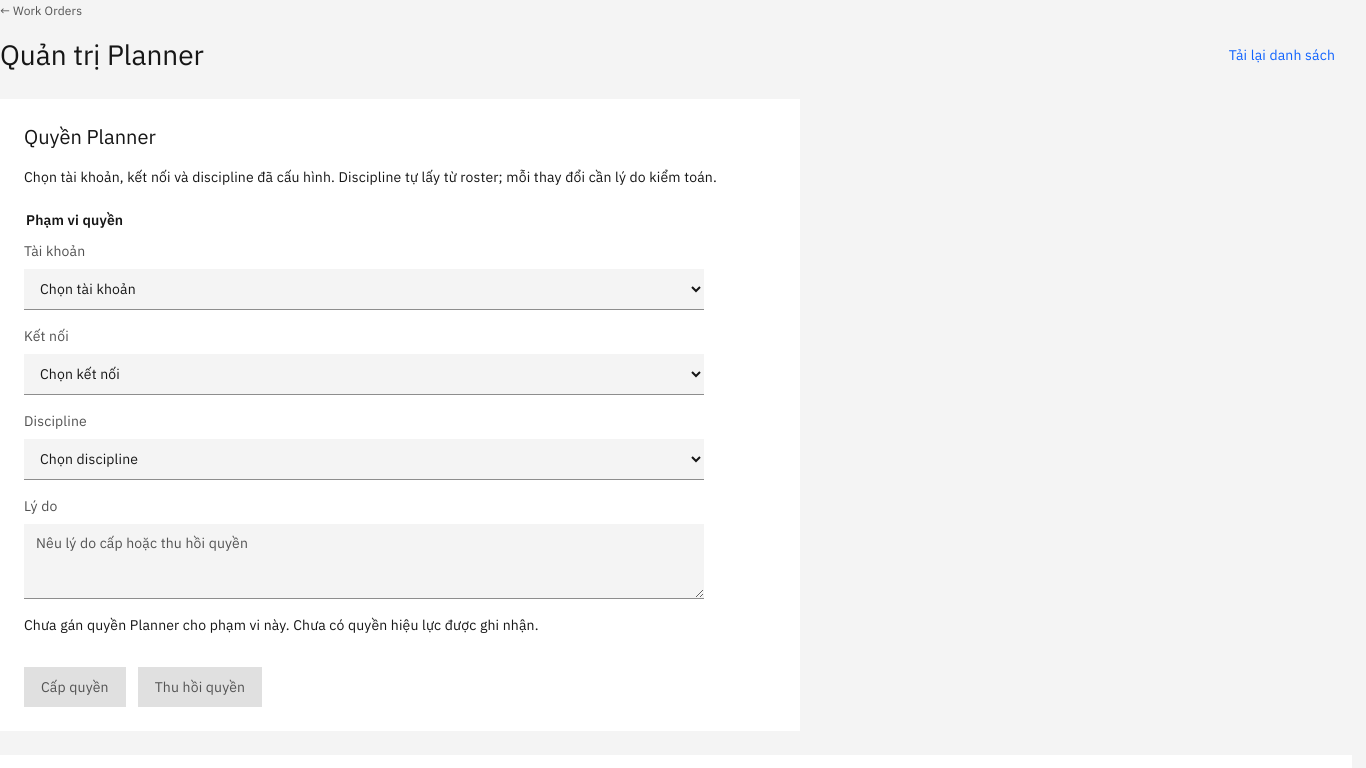
it: clears the roster and prevents PUT when the admin identity changes before mutation
Select "Planner" in the dropdown labelled "Tài khoản": {"x": 364, "y": 290} [24,269,704,310]
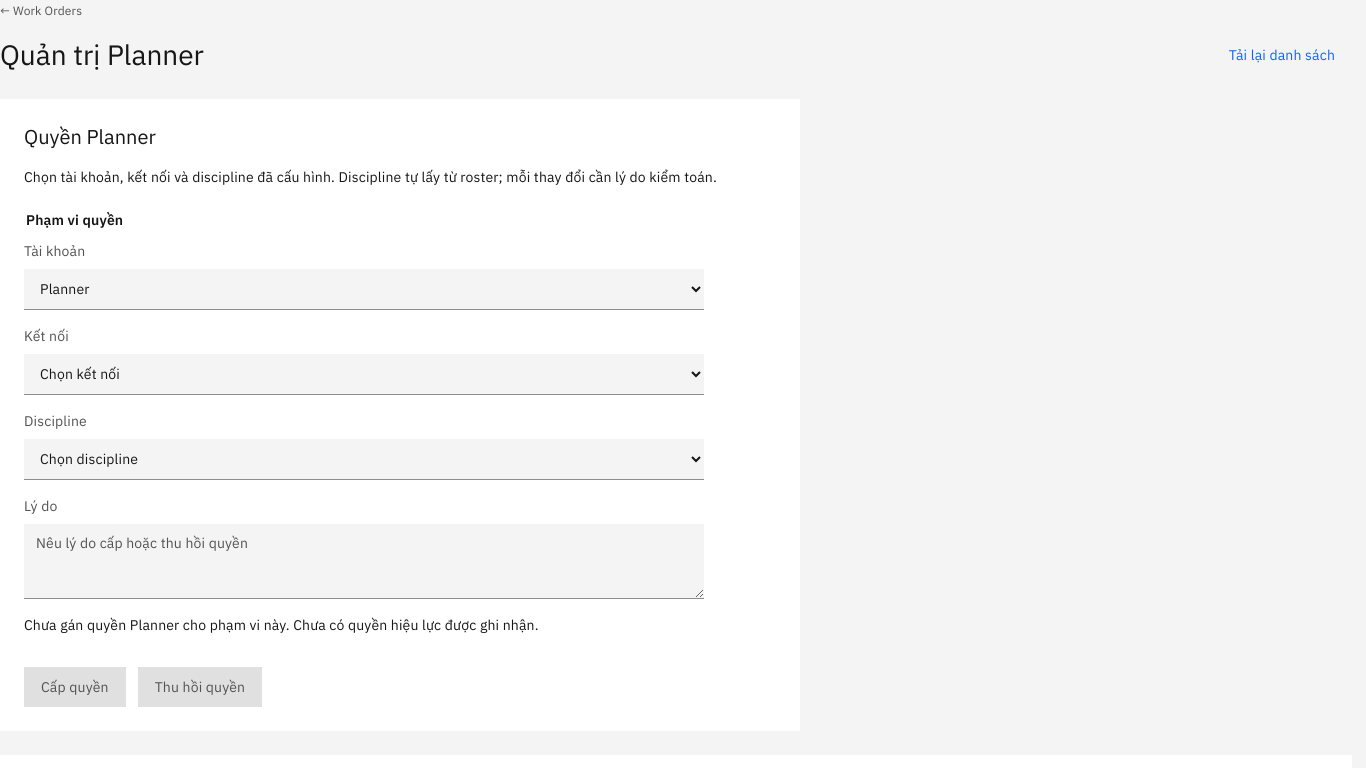
Select "Onshore test · onshore · test" in the dropdown labelled "Kết nối": {"x": 364, "y": 374} [24,354,704,395]
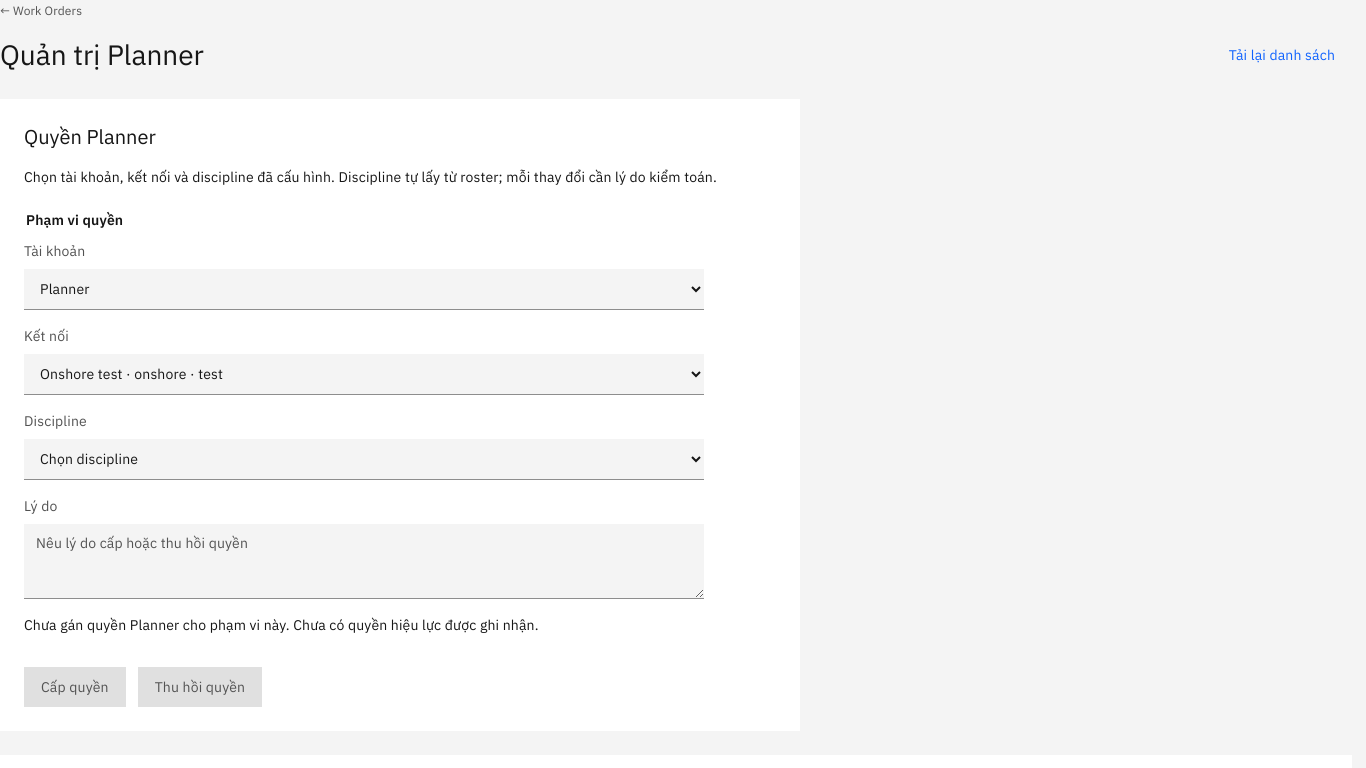
Select "E&I" in the dropdown labelled "Discipline": {"x": 364, "y": 460} [24,439,704,480]
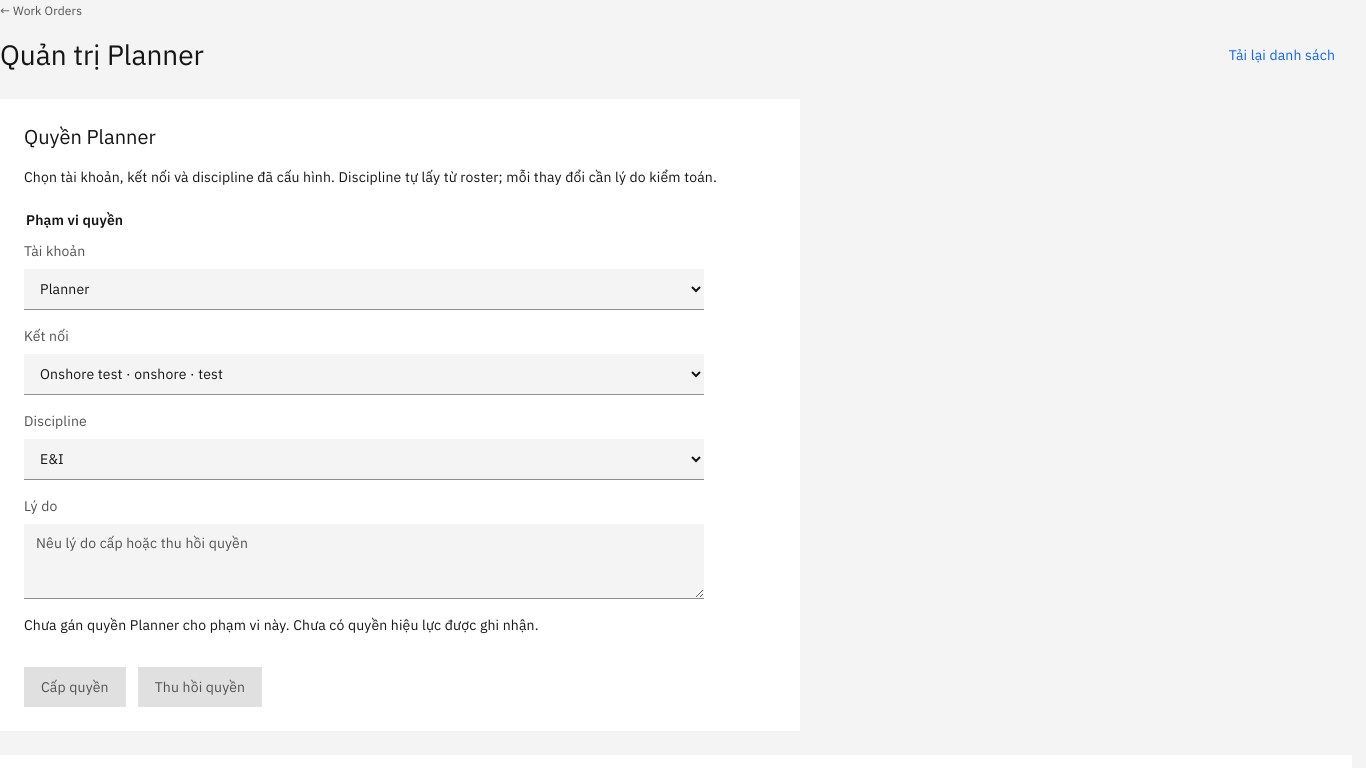
In the text box labelled "Lý do": {"x": 364, "y": 562} [24,524,704,599], type "Approved by operations"
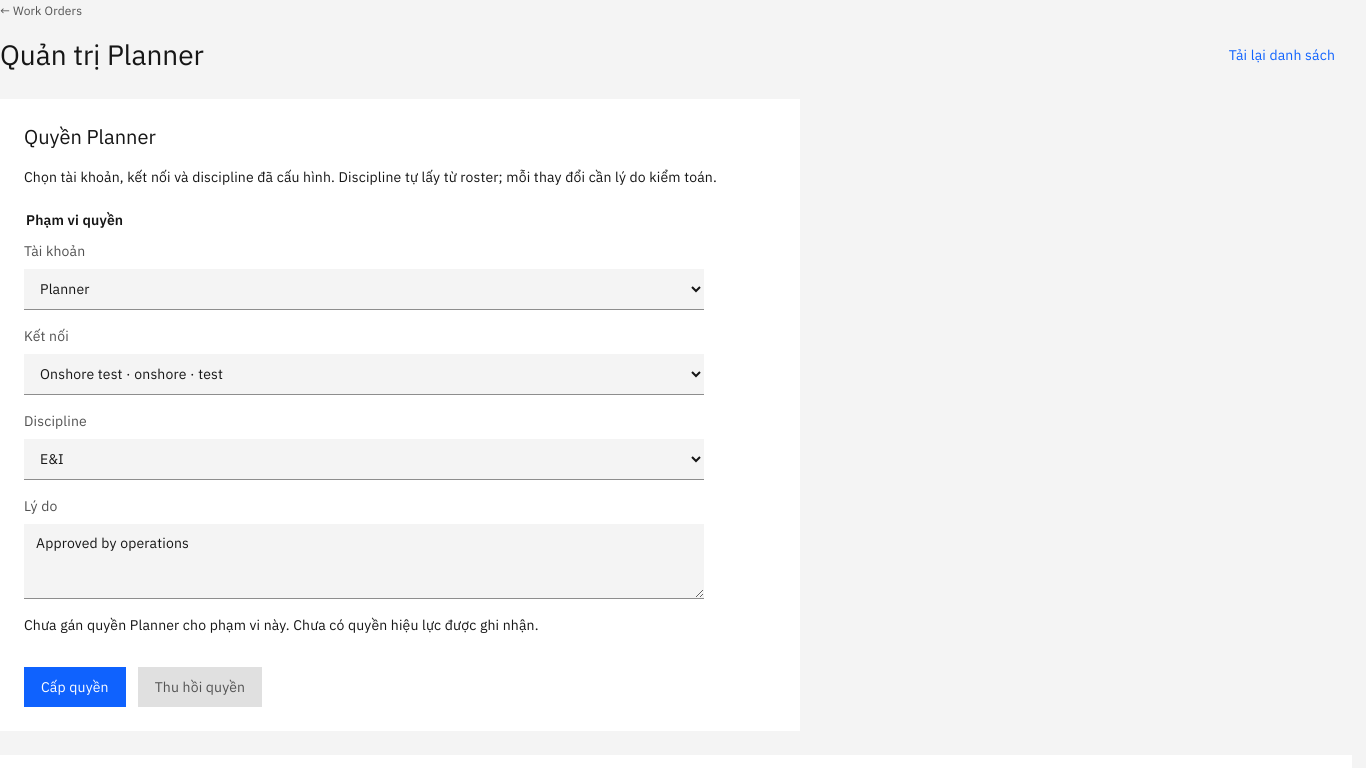
Click the button "Cấp quyền": {"x": 75, "y": 687} [24,667,126,707]
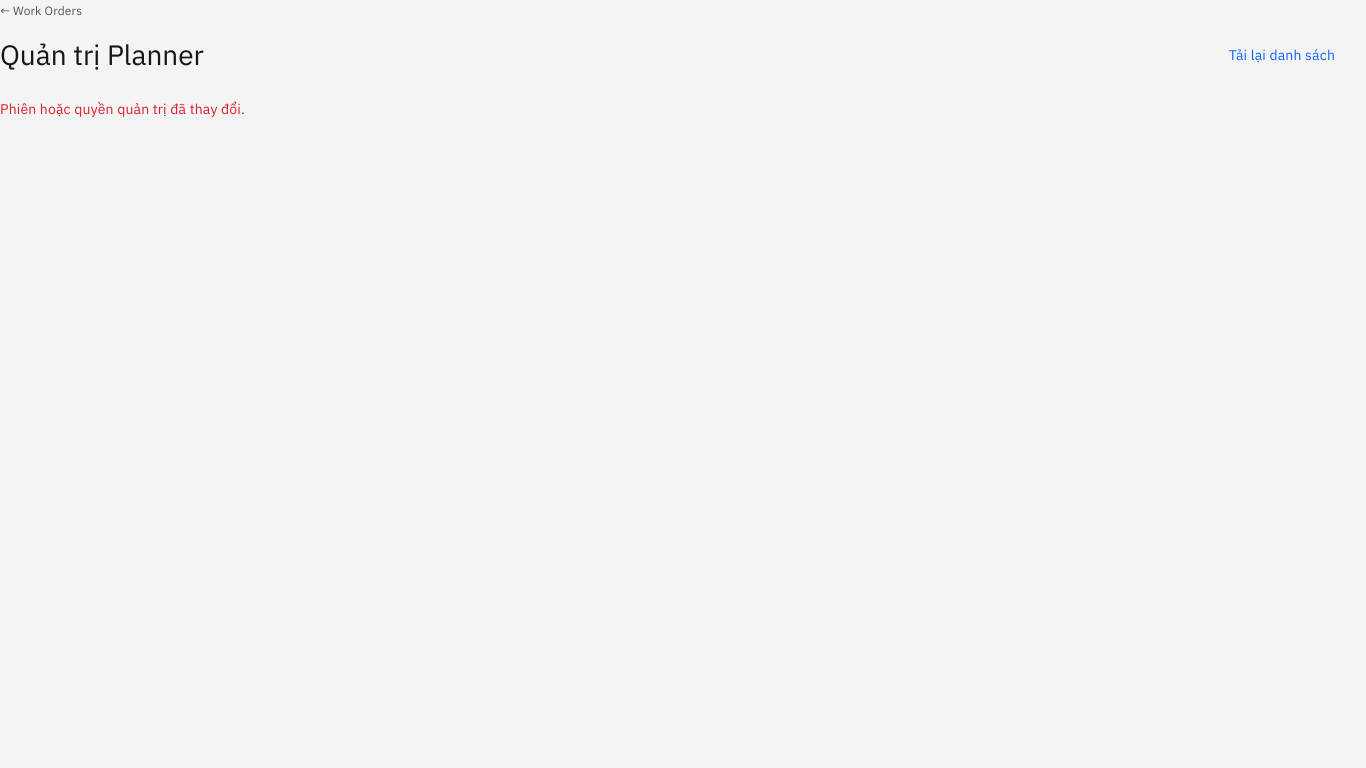
Expected: the text "Phiên hoặc quyền quản trị đã thay đổi." is shown, [0,100,245,118]
Expected: the text labelled "Lý do" is gone
